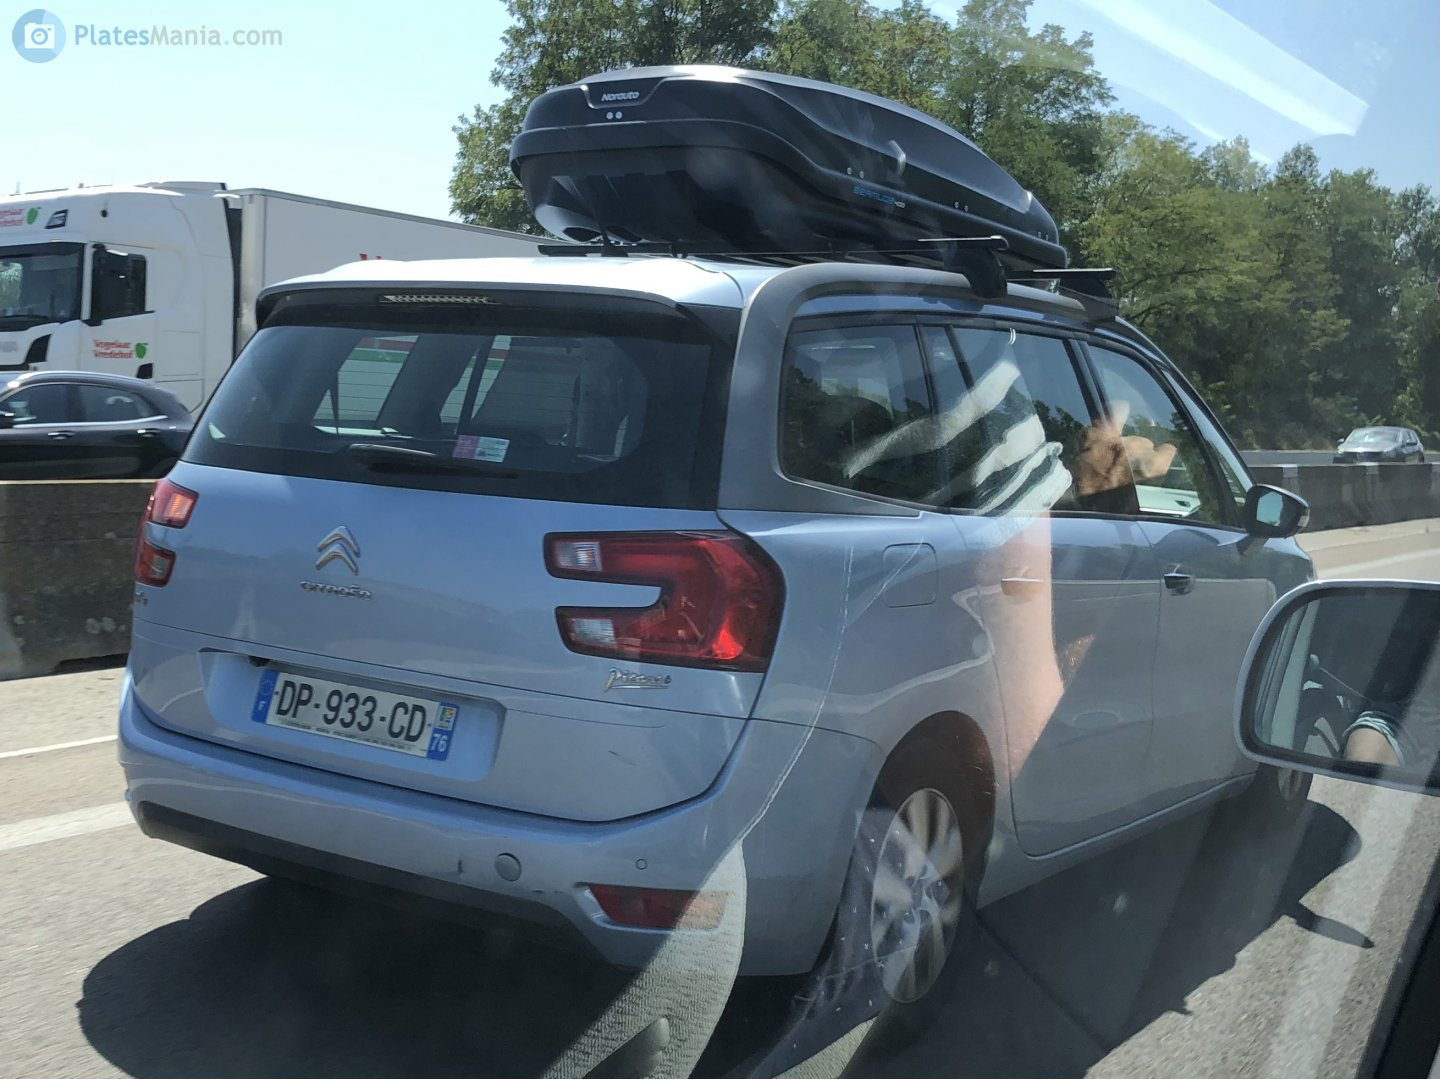licence plate: (250, 667, 462, 766)
